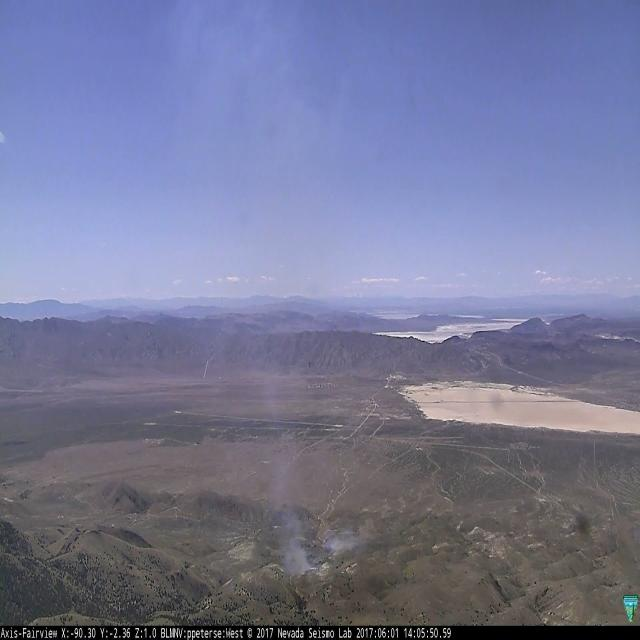smoke: (272, 470, 313, 575), (327, 527, 369, 556)
